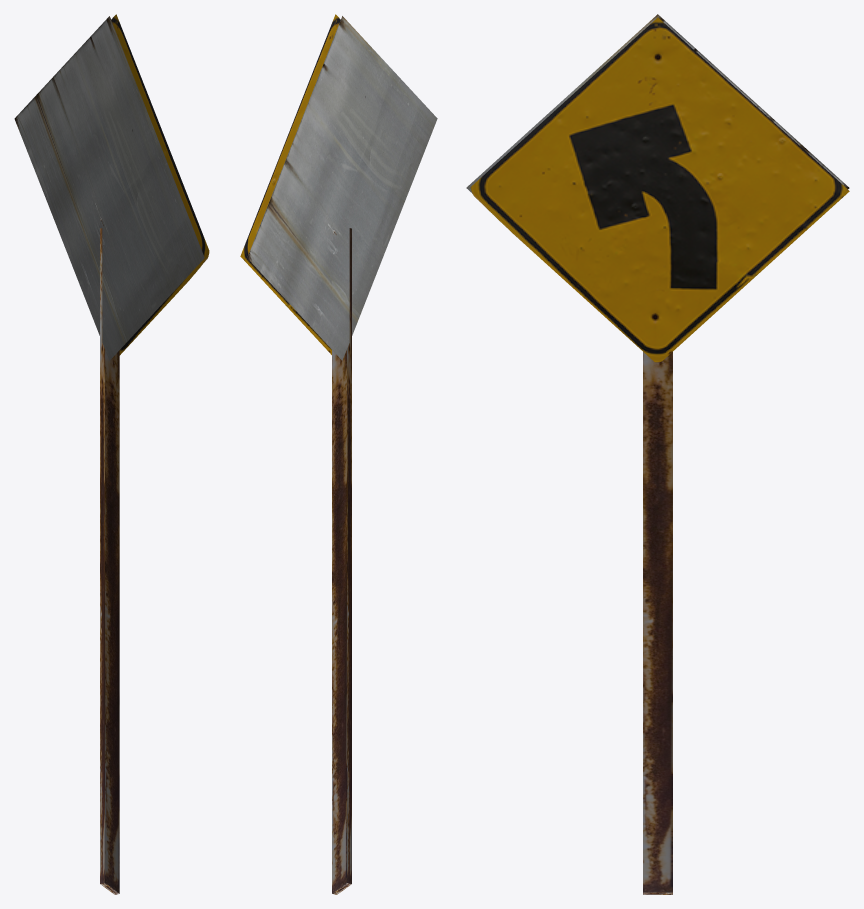
The model's file is left-turn.fbx.
3 views of the same model, side by side, from view 1: azimuth 30°, elevation 25°; view 2: azimuth 150°, elevation 25°; view 3: azimuth 270°, elevation 25° (orthographic).
Visible parts, largest first — view 1: pasted__sign_hazard, pPlane2; view 2: pasted__sign_hazard, pPlane2; view 3: pasted__sign_hazard, pPlane2.
Boxes of the visible parts, x1,y1,x2,y2 form: pasted__sign_hazard: (14,14,209,360); pPlane2: (100,228,119,894); pasted__sign_hazard: (240,14,437,360); pPlane2: (332,228,351,894); pasted__sign_hazard: (466,14,849,362); pPlane2: (643,352,672,894).
Size of the model in its own units: 0.0828 by 7.72 by 3.05.
